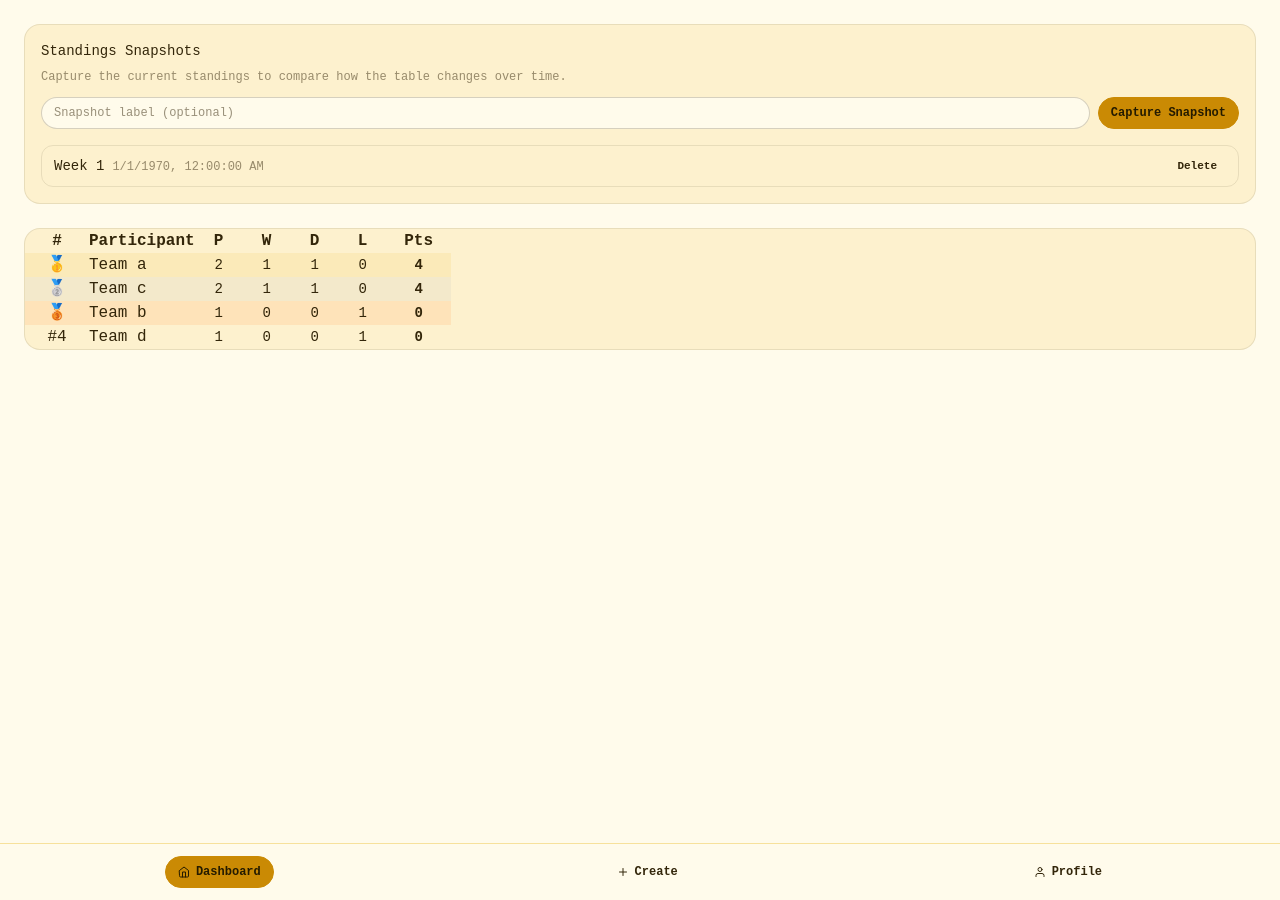
Scenario: StandingsPage › selects and deselects a snapshot
Click the button "Week 11/1/1970, 12:00:00 AM": (159, 166) [54,156,264,176]
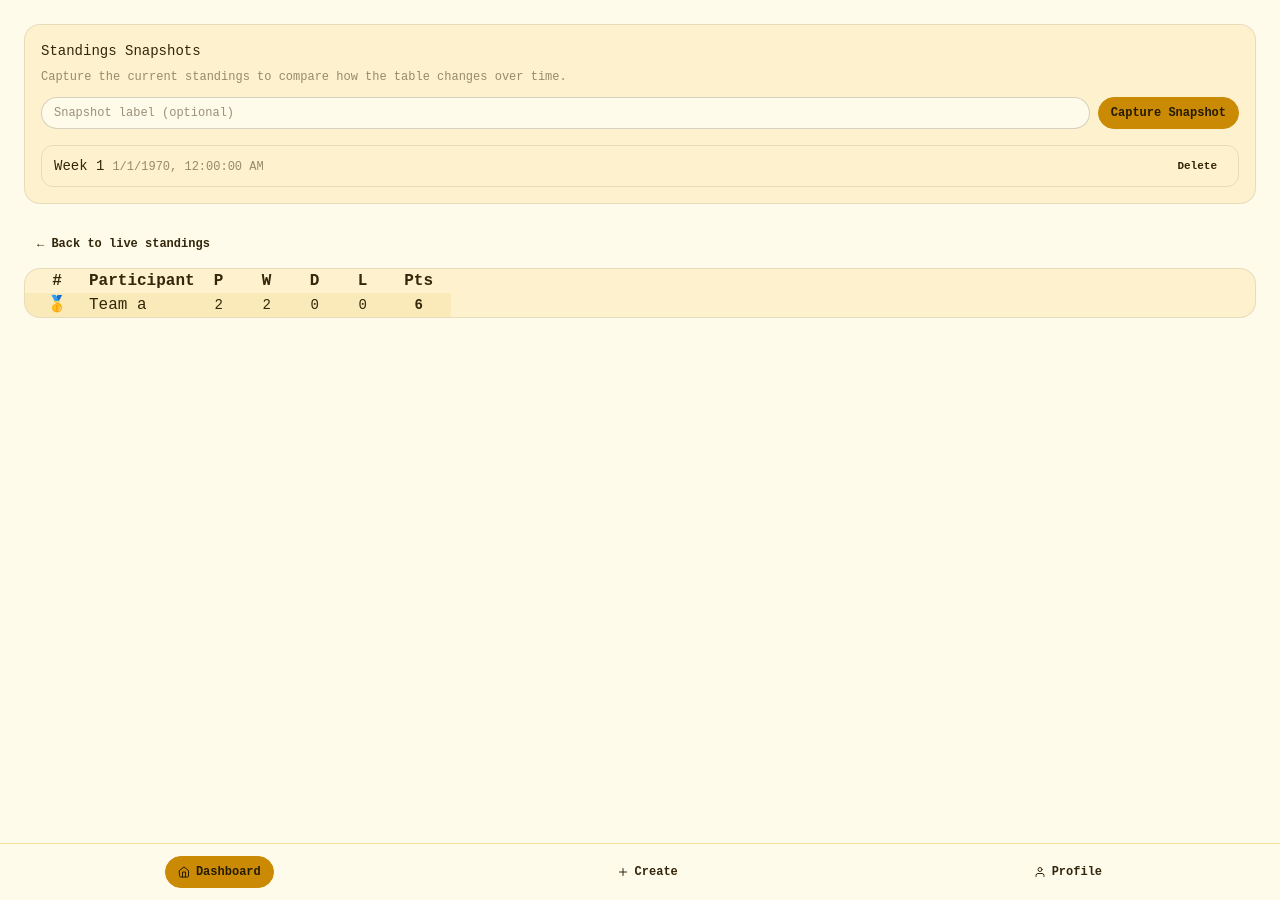
Now the button "← Back to live standings" is shown, box [24,228,223,260]
Click the button "Week 11/1/1970, 12:00:00 AM": (159, 166) [54,156,264,176]
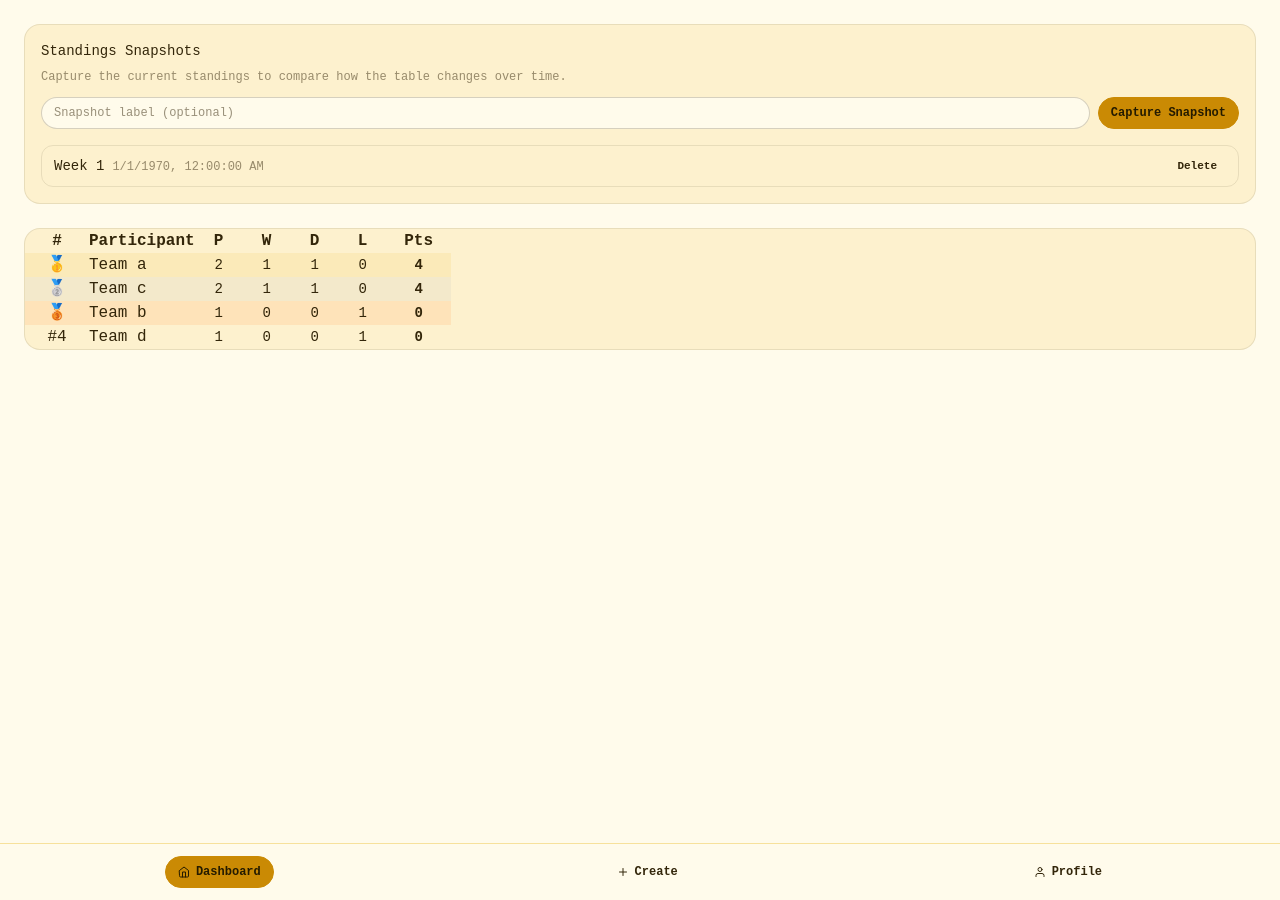
Now the button "← Back to live standings" is gone
